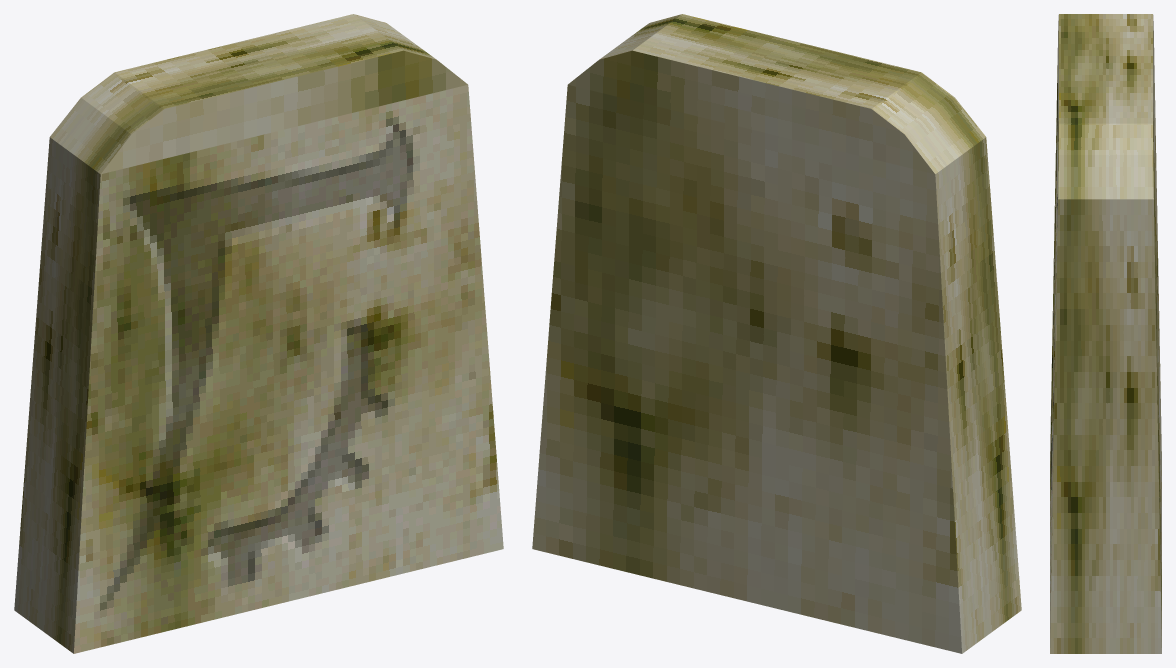
Rendered from Monu4.fbx.
3 views of the same model, side by side, from view 1: azimuth 30°, elevation 25°; view 2: azimuth 150°, elevation 25°; view 3: azimuth 270°, elevation 25° (orthographic). The views are drawn at different scales.
Parts seen in each view (by area): view 1: MONU4; view 2: MONU4; view 3: MONU4.
Part boxes in pixels (x1,y1,x2,y2): MONU4: (14,14,503,653); MONU4: (532,14,1021,653); MONU4: (1050,14,1161,653).
Size of the model in its own units: 17.44 by 20.09 by 4.19.
